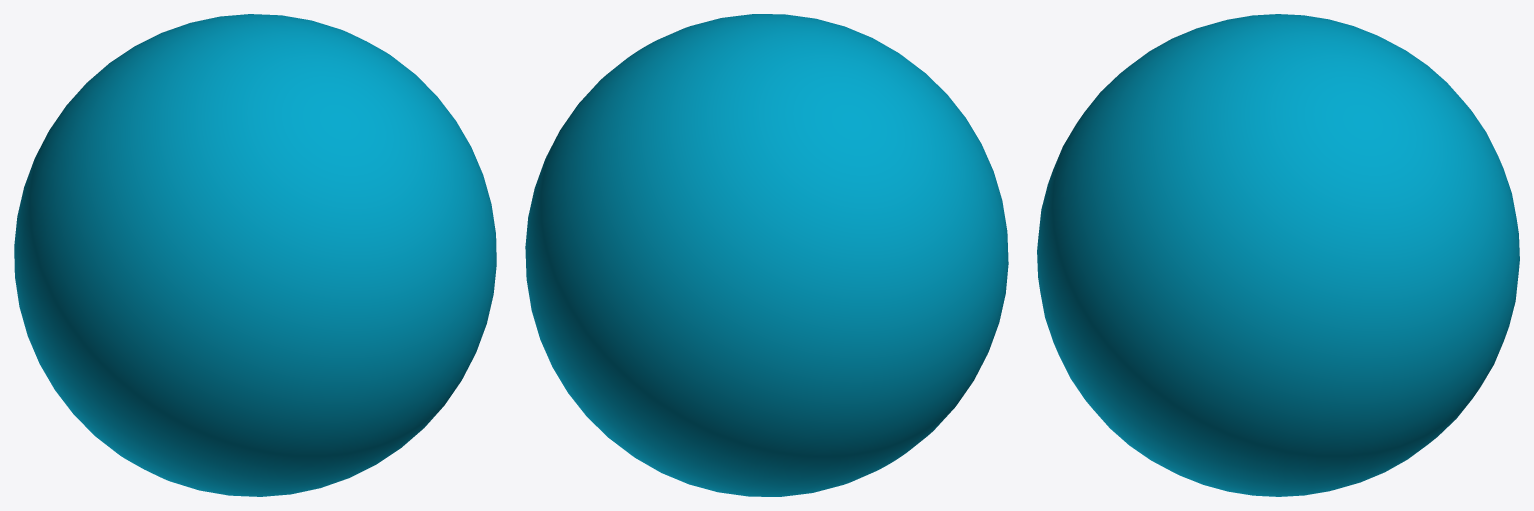
Rendered from SPHERE_SKY.fbx.
3 views of the same model, side by side, from view 1: azimuth 30°, elevation 25°; view 2: azimuth 150°, elevation 25°; view 3: azimuth 270°, elevation 25° (orthographic).
Parts seen in each view (by area): view 1: Sphere_2_3; view 2: Sphere_2_3; view 3: Sphere_2_3.
Boxes of the visible parts, <box> form: Sphere_2_3: <box>14,14,496,496</box>; Sphere_2_3: <box>525,14,1008,496</box>; Sphere_2_3: <box>1037,14,1519,496</box>.
Size of the model in its own units: 99.84 by 99.93 by 99.95.
